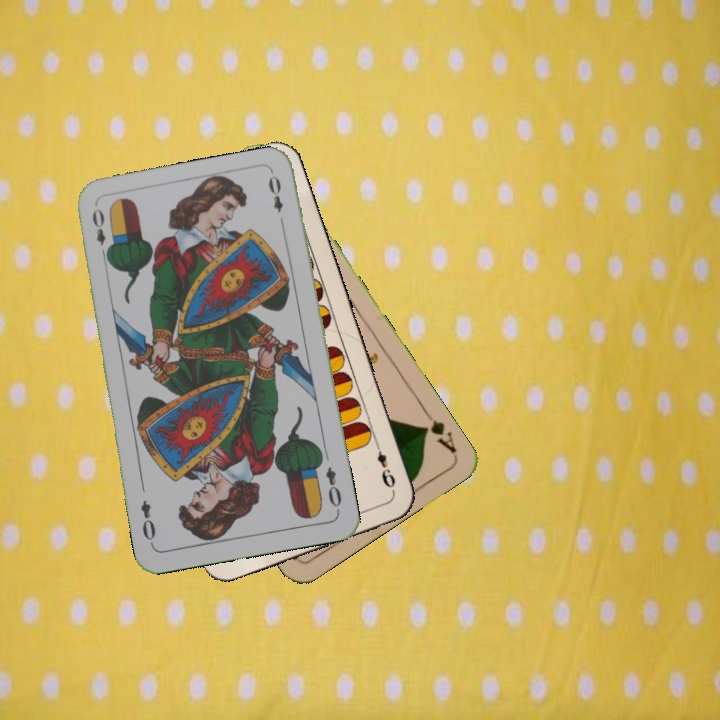E9: (371, 439, 398, 496)
EO: (88, 204, 113, 262), (322, 463, 345, 514)
GA: (417, 404, 460, 457)
